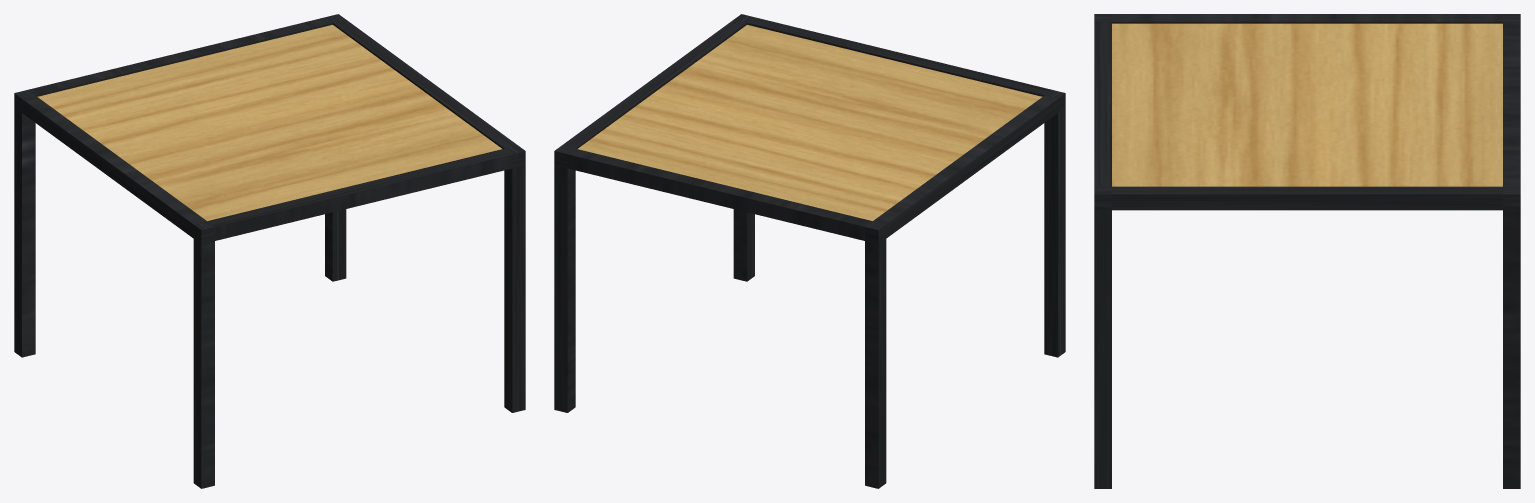
The model's file is SM_Mesa Grande.fbx.
The picture shows the model from 3 angles, left to right: view 1: azimuth 30°, elevation 25°; view 2: azimuth 150°, elevation 25°; view 3: azimuth 270°, elevation 25°; orthographic projection. The views are drawn at different scales.
Visible parts, largest first — view 1: SM_Mesa Grande; view 2: SM_Mesa Grande; view 3: SM_Mesa Grande.
Part boxes in pixels (x1=…): SM_Mesa Grande: x1=14, y1=14, x2=525, y2=488; SM_Mesa Grande: x1=554, y1=14, x2=1065, y2=488; SM_Mesa Grande: x1=1094, y1=14, x2=1520, y2=488.
Size of the model in its own units: 72.08 by 54.96 by 72.08.
